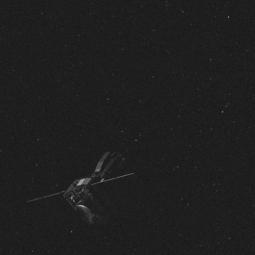soho: (47, 140, 136, 234)
